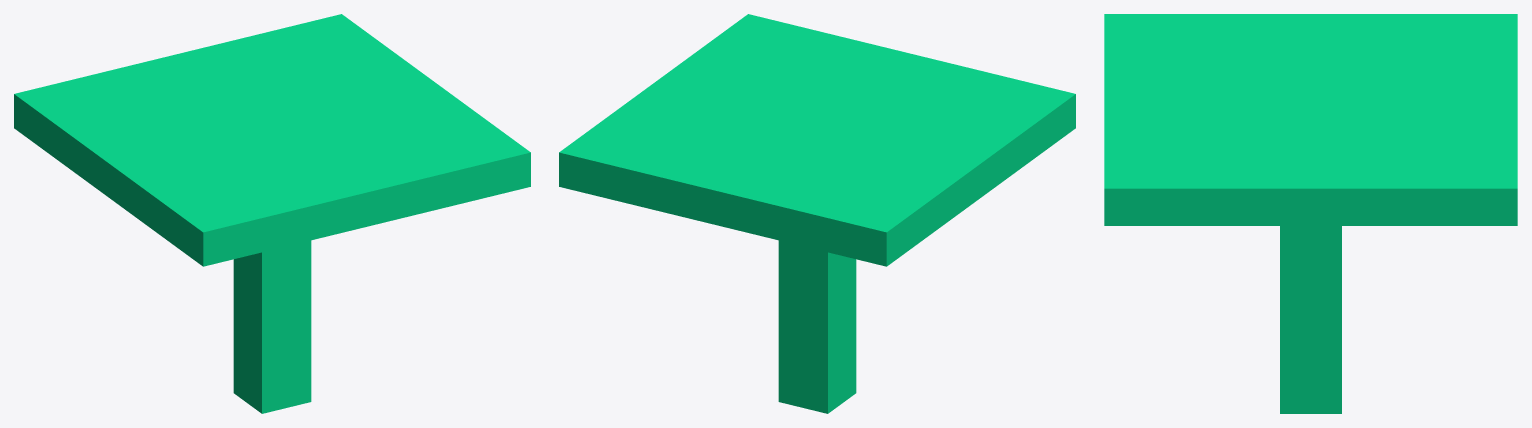
Rendered from mesaajedrez.fbx.
3 views of the same model, side by side, from view 1: azimuth 30°, elevation 25°; view 2: azimuth 150°, elevation 25°; view 3: azimuth 270°, elevation 25° (orthographic). The views are drawn at different scales.
Parts seen in each view (by area): view 1: sm_mesa_ajedrez.002, sm_mesa_ajedrez.001; view 2: sm_mesa_ajedrez.002, sm_mesa_ajedrez.001; view 3: sm_mesa_ajedrez.002, sm_mesa_ajedrez.001.
Boxes of the visible parts, box(x1,y1,x2,y2) form: sm_mesa_ajedrez.002: box(14, 14, 530, 266); sm_mesa_ajedrez.001: box(233, 240, 311, 413); sm_mesa_ajedrez.002: box(559, 14, 1075, 266); sm_mesa_ajedrez.001: box(778, 240, 856, 413); sm_mesa_ajedrez.002: box(1104, 14, 1517, 225); sm_mesa_ajedrez.001: box(1280, 226, 1341, 413).
Size of the model in its own units: 100 by 80 by 100.
